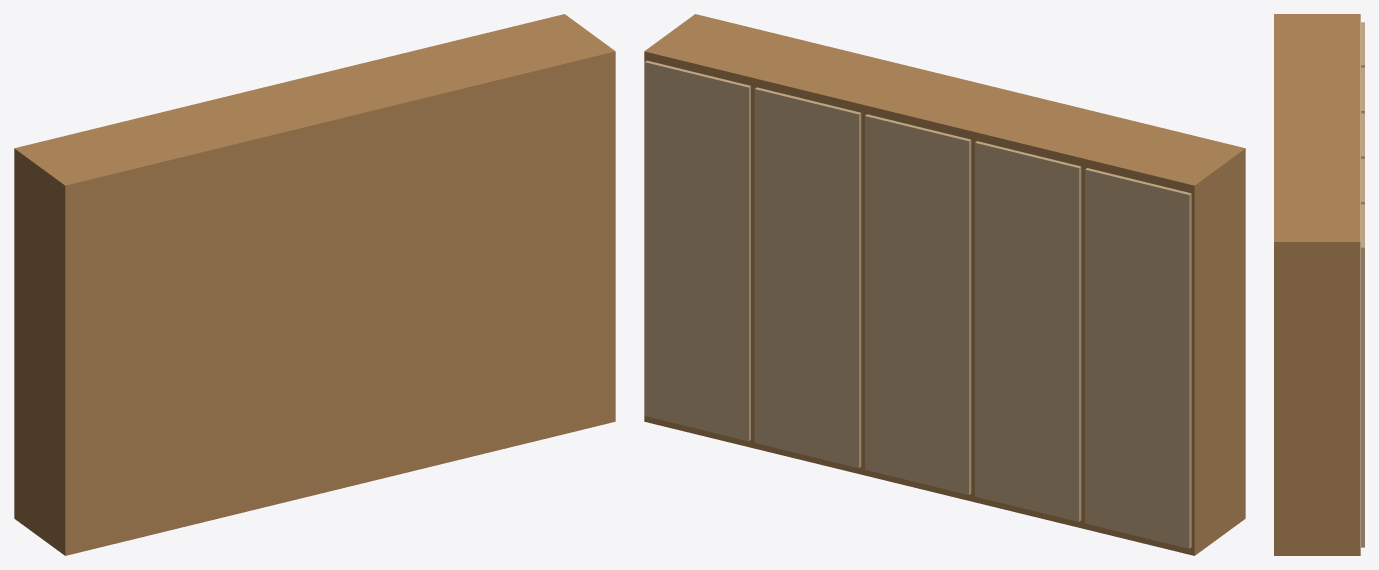
3 views of the same model, side by side, from view 1: azimuth 30°, elevation 25°; view 2: azimuth 150°, elevation 25°; view 3: azimuth 270°, elevation 25° (orthographic). The views are drawn at different scales.
Parts seen in each view (by area): view 1: taquillas; view 2: taquillas; view 3: taquillas.
Part boxes in pixels (x1,y1,x2,y2): taquillas: (14,14,615,555); taquillas: (644,14,1245,555); taquillas: (1274,14,1364,555).
Size of the model in its own units: 2.8 by 0.472 by 1.8.
